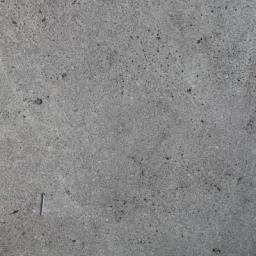FOD: (39, 188, 51, 219)
